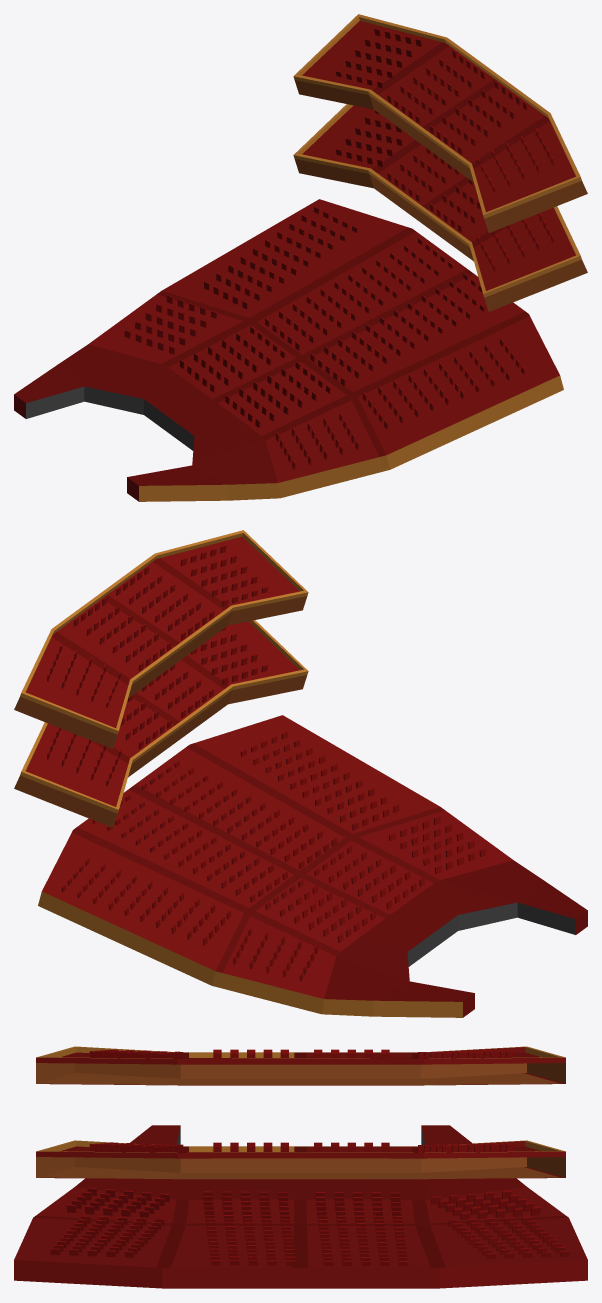
Rendered from Audience.fbx.
3 renders of one model, top to bottom at view 1: azimuth 30°, elevation 25°; view 2: azimuth 150°, elevation 25°; view 3: azimuth 270°, elevation 25°, orthographic. The views are drawn at different scales.
Visible parts, largest first — view 1: Audience; view 2: Audience; view 3: Audience.
Part boxes in pixels (x1=…): Audience: x1=14, y1=14, x2=587, y2=501; Audience: x1=14, y1=530, x2=587, y2=1017; Audience: x1=14, y1=1046, x2=587, y2=1288.
Size of the model in its own units: 28137 by 17415 by 27326.
